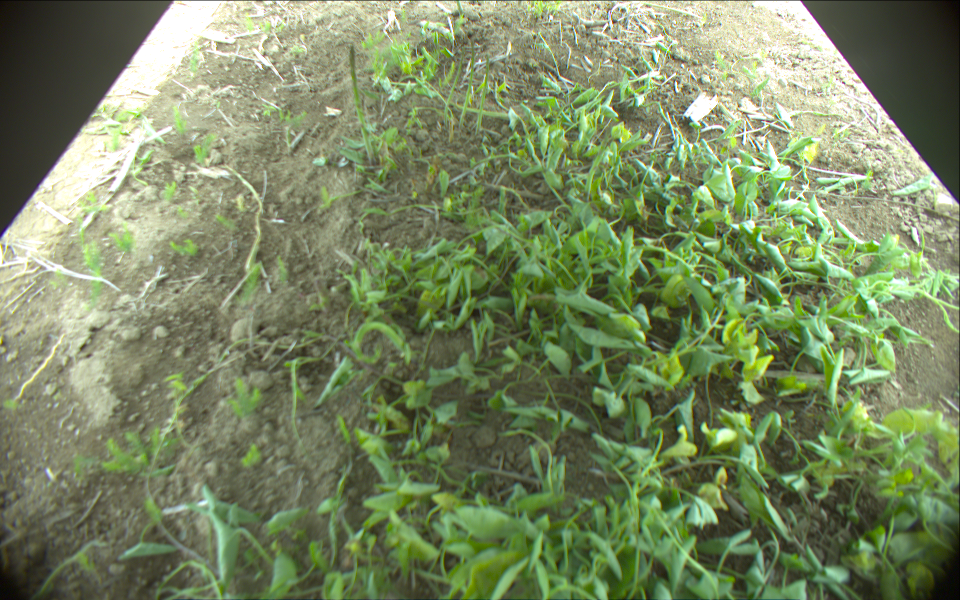aspa: (222, 167, 263, 271), (349, 45, 376, 168), (476, 55, 494, 129), (462, 22, 475, 124), (444, 50, 464, 114)
